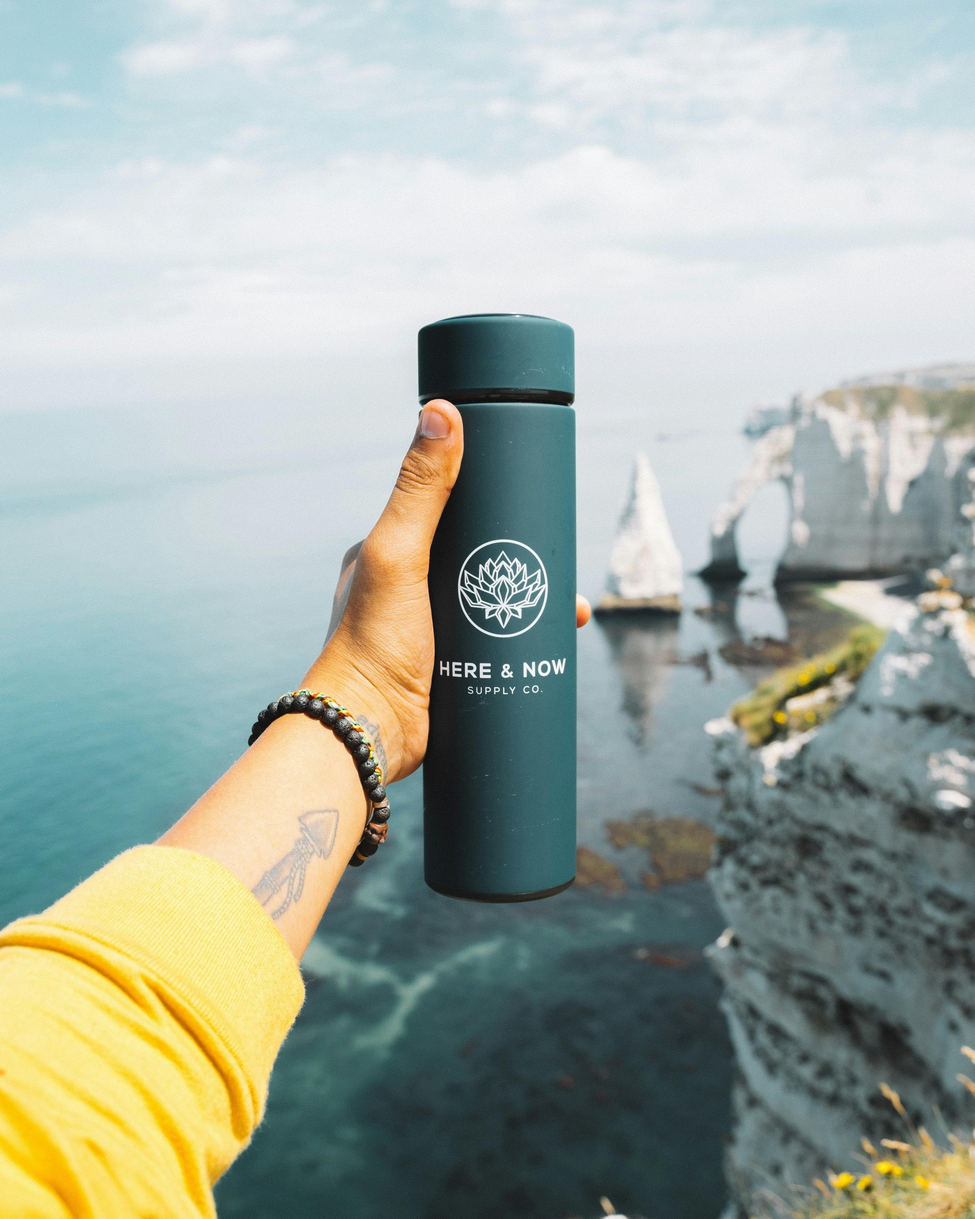Bottle-Detection: (375, 272, 623, 926), (375, 279, 623, 923)
